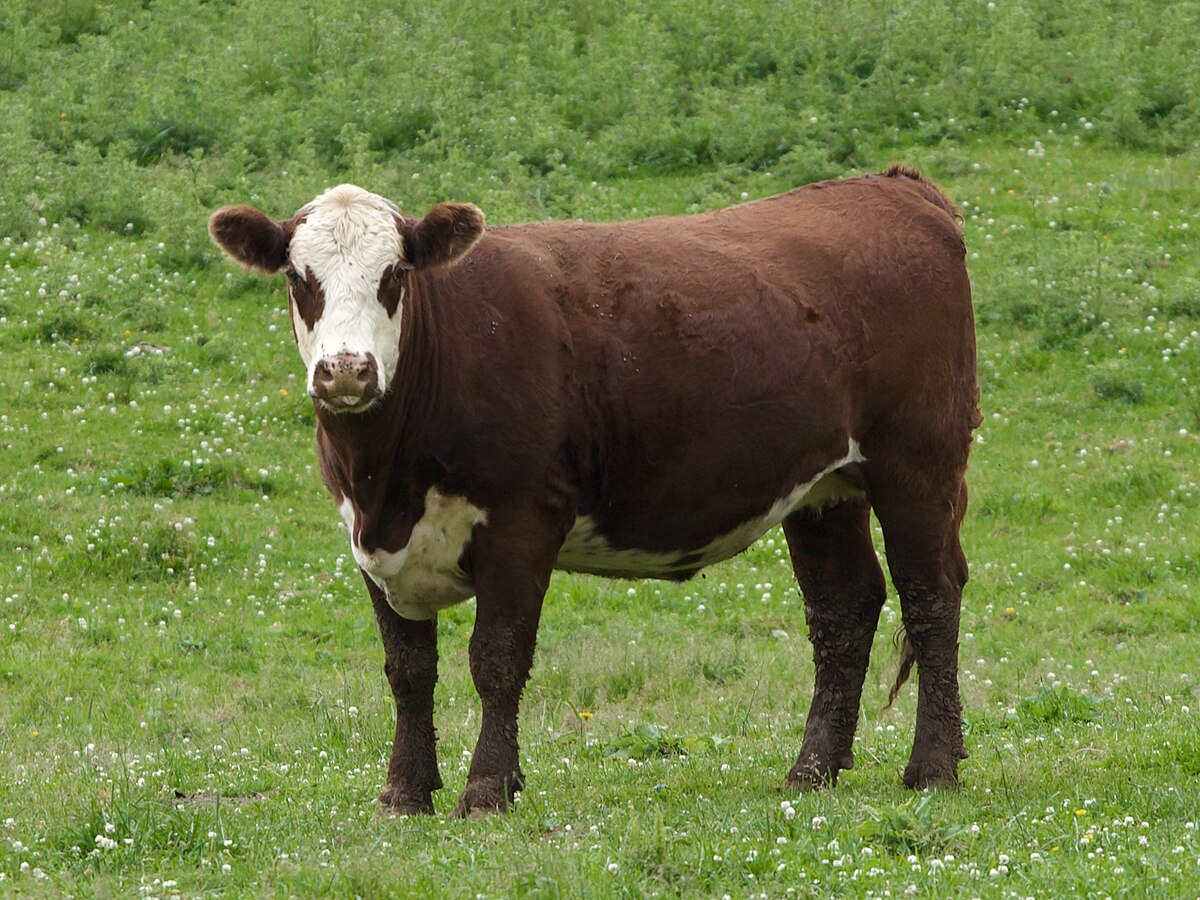cow: (197, 168, 981, 816)
